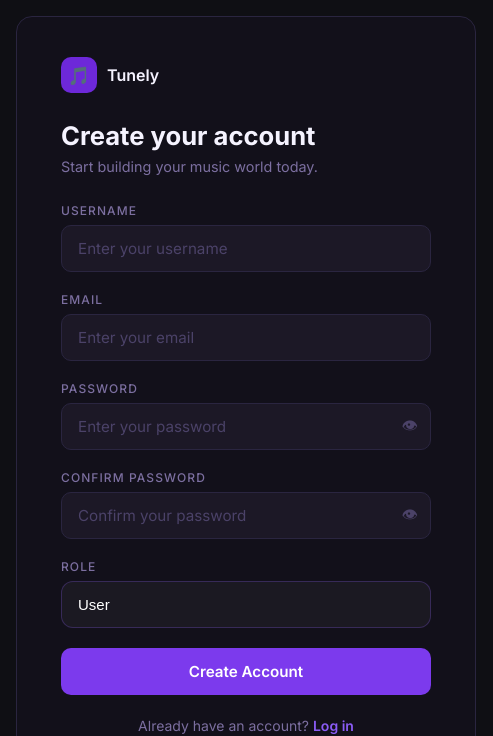
Signup › shows error for username with spaces
The width and height of the screenshot is (493, 736).
Type "alice bob" into the field labelled "Username". click: (246, 248)
box: [61,225,431,272]
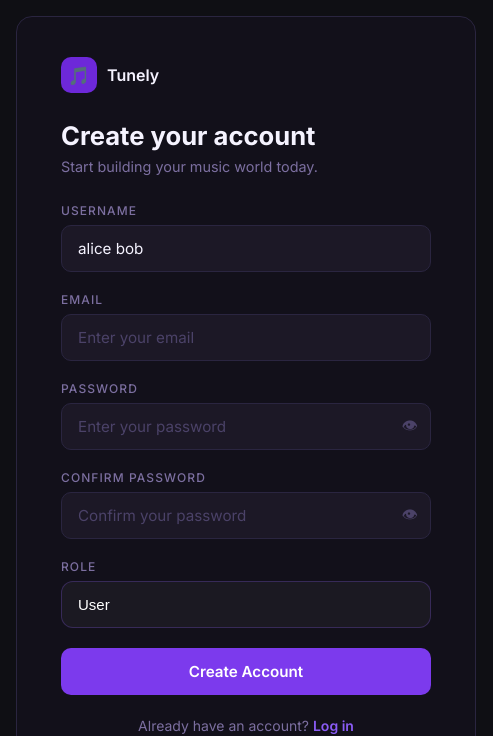
Click the button "Create Account". click: click(246, 671)
box: [61,648,431,695]
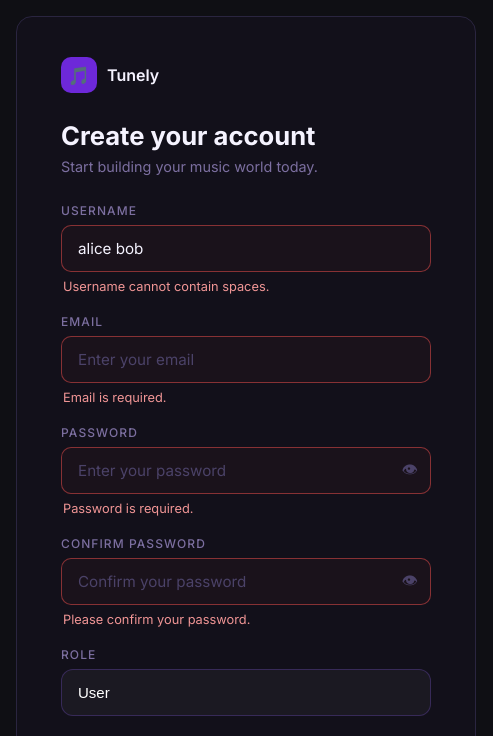
Check: the text "Username cannot contain spaces." is shown, box [63,279,269,294]
